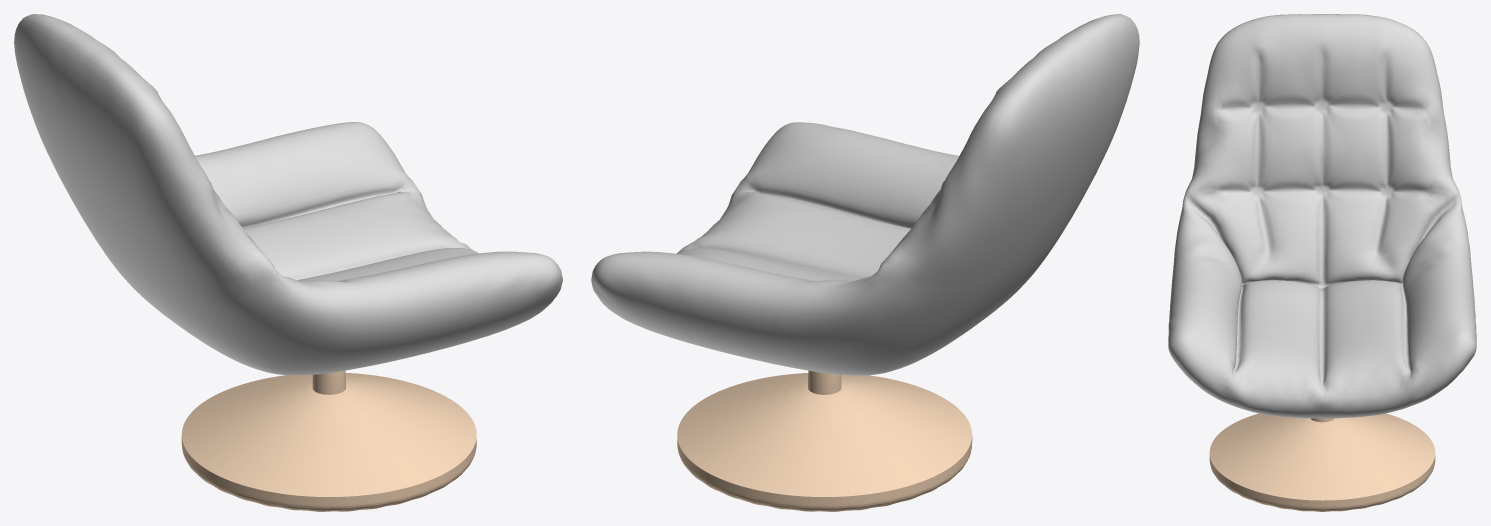
File: real_furniture.glb
The picture shows the model from 3 angles, left to right: view 1: azimuth 30°, elevation 25°; view 2: azimuth 150°, elevation 25°; view 3: azimuth 270°, elevation 25°; orthographic projection. The views are drawn at different scales.
Visible parts, largest first — view 1: Cube, Cylinder; view 2: Cube, Cylinder; view 3: Cube, Cylinder.
Part boxes in pixels (x1,y1,x2,y2): Cube: (14,14,562,375); Cylinder: (181,370,476,511); Cube: (591,14,1139,375); Cylinder: (677,370,972,511); Cube: (1168,14,1476,418); Cylinder: (1209,413,1435,511).
Bounding box in the file's own units: 2.62 × 2.91 × 2.21.
